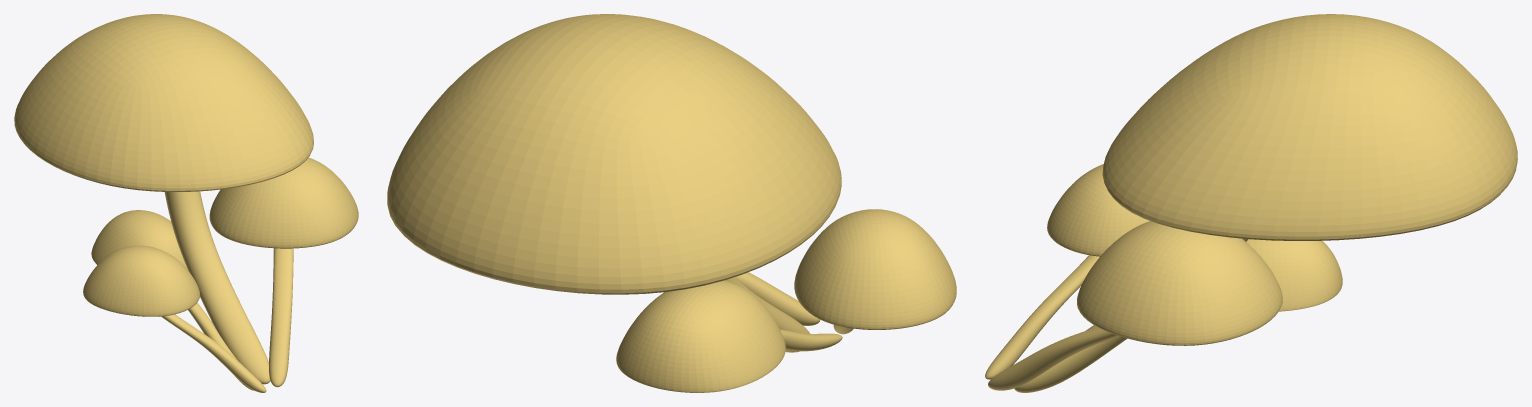
Rendered from wall_mushroom.fbx.
3 views of the same model, side by side, from view 1: azimuth 30°, elevation 25°; view 2: azimuth 150°, elevation 25°; view 3: azimuth 270°, elevation 25° (orthographic). The views are drawn at different scales.
Visible parts, largest first — view 1: Cube, Cube.001, Cube.002, Cube.003; view 2: Cube, Cube.002, Cube.003, Cube.001; view 3: Cube, Cube.001, Cube.002, Cube.003.
Part boxes in pixels (x1,y1,x2,y2): Cube: [14, 14, 313, 384]; Cube.001: [209, 157, 358, 387]; Cube.002: [83, 245, 266, 392]; Cube.003: [91, 210, 253, 390]; Cube: [387, 14, 841, 352]; Cube.002: [794, 209, 956, 334]; Cube.003: [616, 280, 842, 392]; Cube.001: [735, 272, 820, 325]; Cube: [1014, 14, 1517, 392]; Cube.001: [988, 221, 1282, 390]; Cube.002: [985, 164, 1149, 379]; Cube.003: [1246, 239, 1342, 311].
Bounding box in the file's own units: 385 × 362 × 477.
